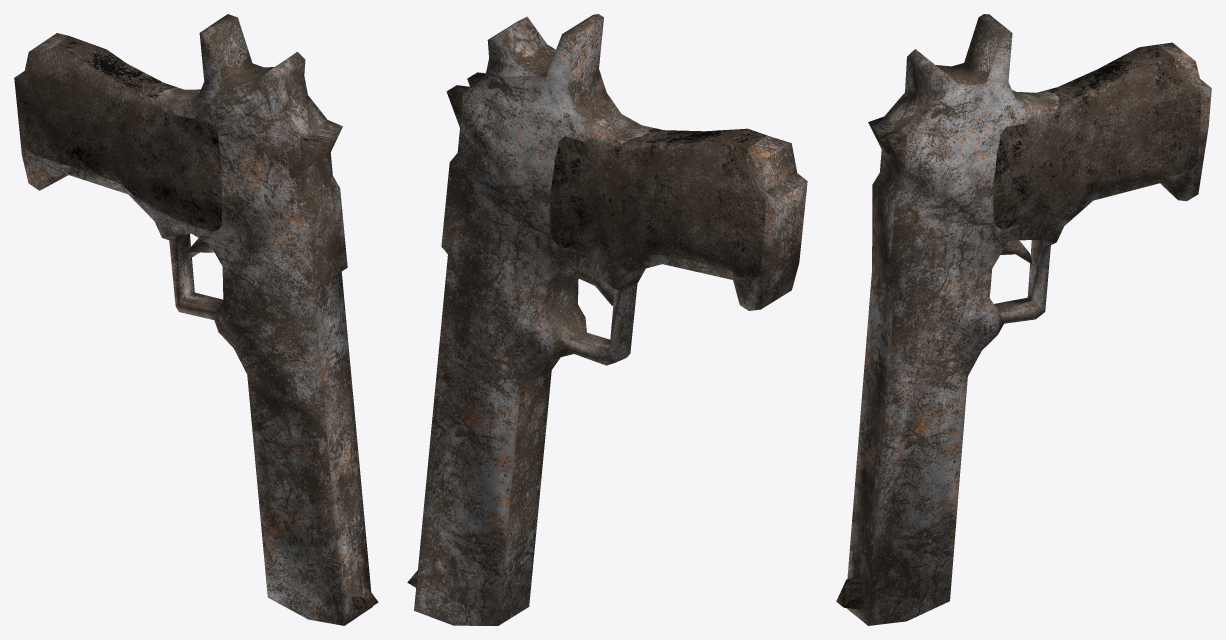
The model's file is Anim_idle_pistola_objetos.0017.obj.
3 renders of one model, left to right at view 1: azimuth 30°, elevation 25°; view 2: azimuth 210°, elevation 25°; view 3: azimuth 270°, elevation 25°, orthographic. The views are drawn at different scales.
Parts seen in each view (by area): view 1: Pistola1; view 2: Pistola1; view 3: Pistola1.
Boxes of the visible parts, bbox=[...] form: Pistola1: bbox=[14, 14, 378, 625]; Pistola1: bbox=[407, 14, 807, 625]; Pistola1: bbox=[836, 14, 1211, 625].
Bounding box in the file's own units: 0.6202 × 1.68 × 1.02.
